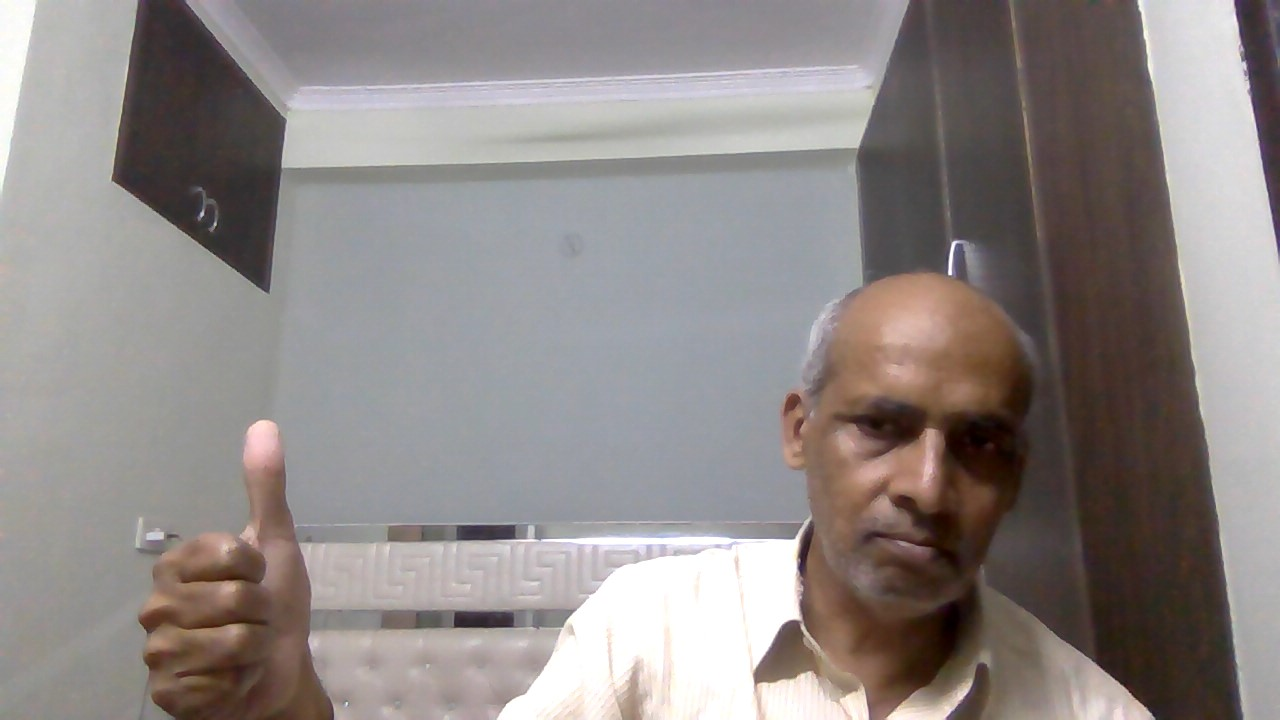Save: (127, 408, 352, 720)
